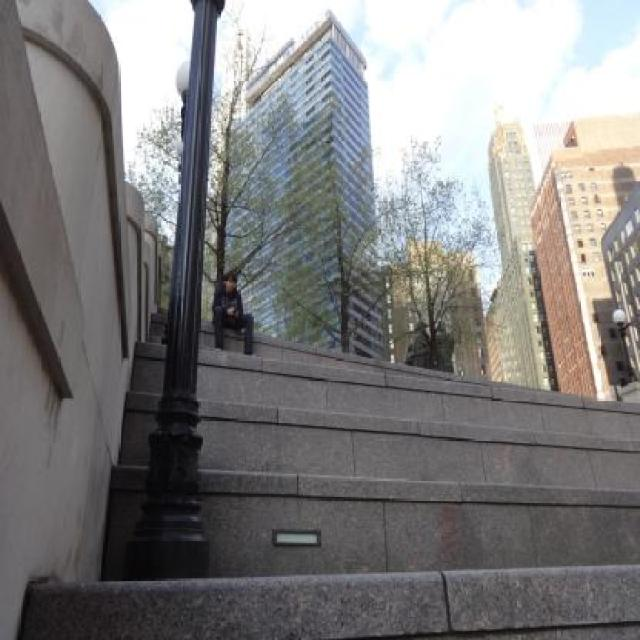stair: (18, 304, 639, 640)
